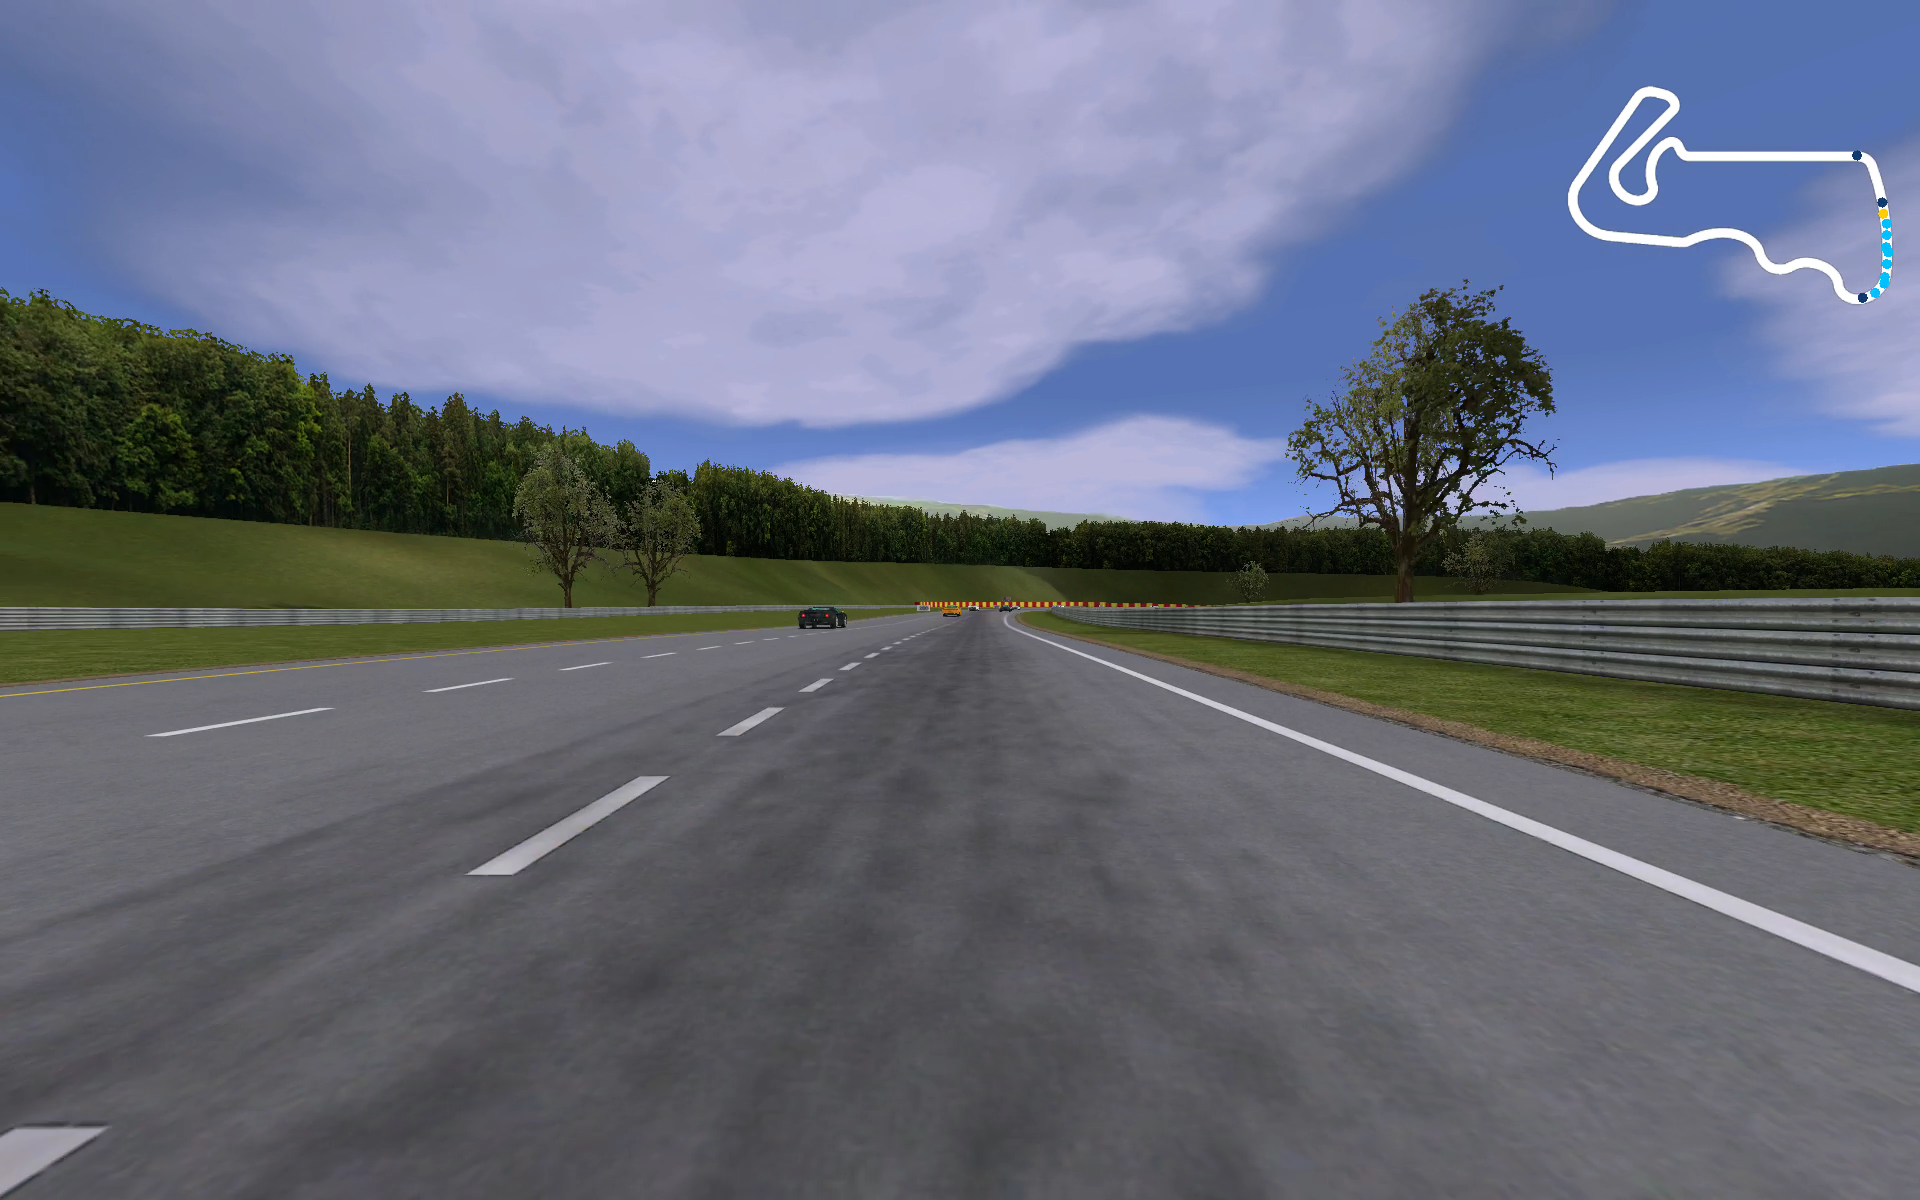car: (795, 604, 851, 630), (939, 606, 965, 621), (995, 604, 1008, 614)
